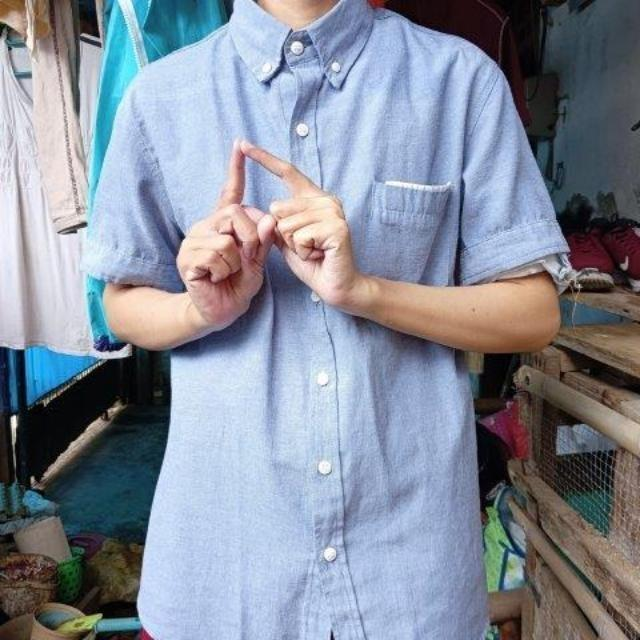A: (175, 124, 358, 317)
